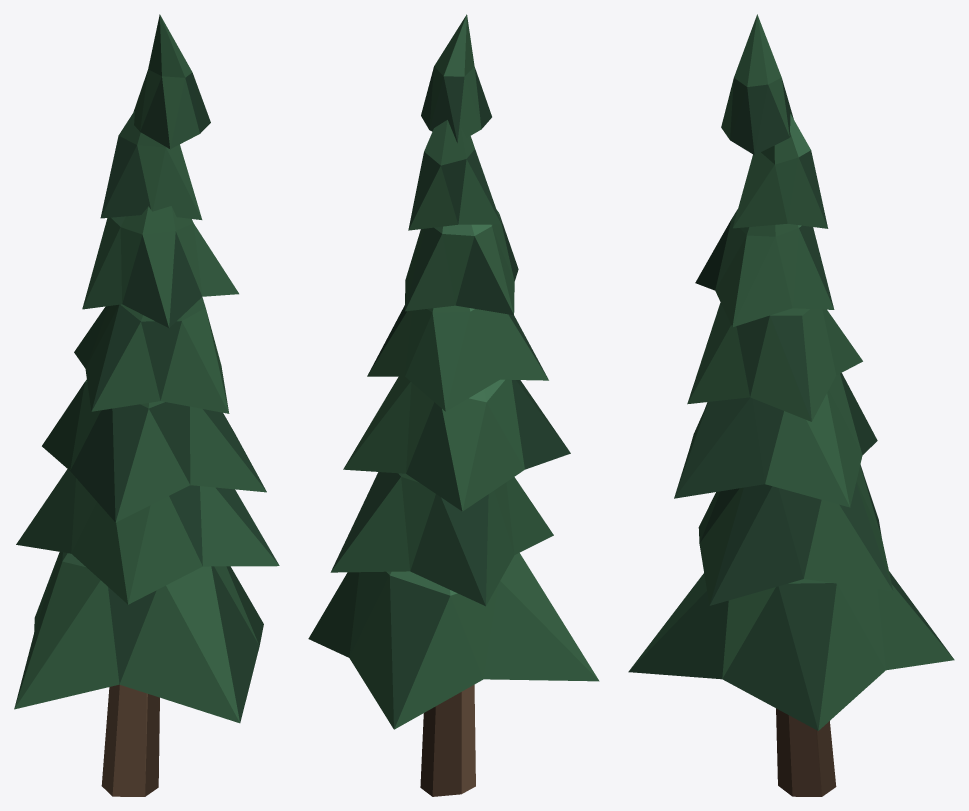
File: tree_cedar_a.fbx
3 views of the same model, side by side, from view 1: azimuth 30°, elevation 25°; view 2: azimuth 150°, elevation 25°; view 3: azimuth 270°, elevation 25° (orthographic). The views are drawn at different scales.
Visible parts, largest first — view 1: tree_cedar_a; view 2: tree_cedar_a; view 3: tree_cedar_a.
Part boxes in pixels (x1=…): tree_cedar_a: x1=14, y1=14, x2=279, y2=796; tree_cedar_a: x1=308, y1=14, x2=599, y2=796; tree_cedar_a: x1=628, y1=14, x2=954, y2=796.
Bounding box in the file's own units: 4.06 × 11.06 × 4.22.
